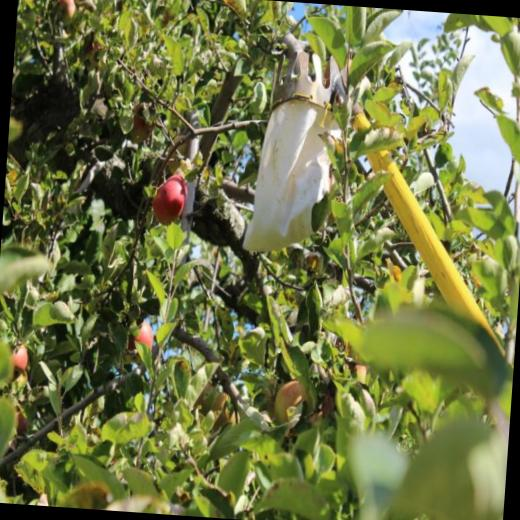Apple: (269, 378, 322, 436), (151, 174, 192, 230), (129, 101, 156, 144), (127, 316, 156, 356), (164, 132, 191, 173), (54, 0, 78, 28), (84, 40, 106, 70), (8, 340, 27, 372), (13, 406, 29, 436), (349, 363, 369, 386)
